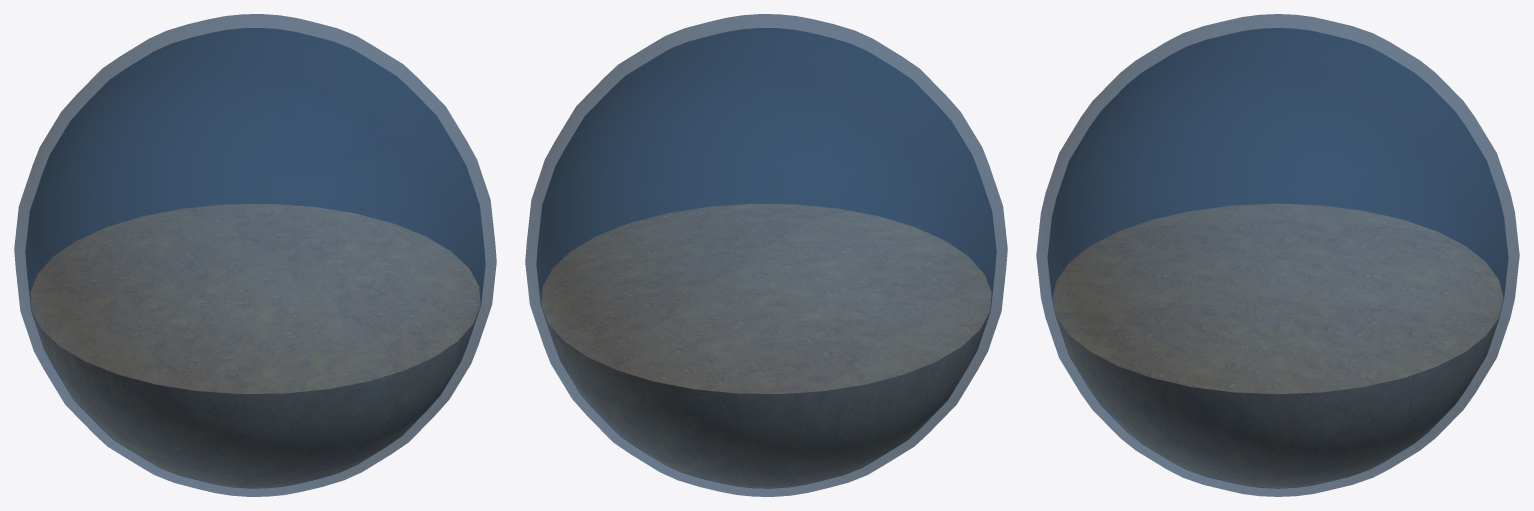
The model's file is 10dg_dragon_hourglasssand02.glb.
The picture shows the model from 3 angles, left to right: view 1: azimuth 30°, elevation 25°; view 2: azimuth 150°, elevation 25°; view 3: azimuth 270°, elevation 25°; orthographic projection.
Parts seen in each view (by area): view 1: 10dg_dragon_hourglasssand02; view 2: 10dg_dragon_hourglasssand02; view 3: 10dg_dragon_hourglasssand02.
Part boxes in pixels (box(x1,y1,x2,y2)): 10dg_dragon_hourglasssand02: box(14, 14, 496, 496); 10dg_dragon_hourglasssand02: box(525, 14, 1007, 496); 10dg_dragon_hourglasssand02: box(1036, 14, 1519, 496).
Bounding box in the file's own units: 40.18 × 40.18 × 40.18.
2 materials, 2 textured.
